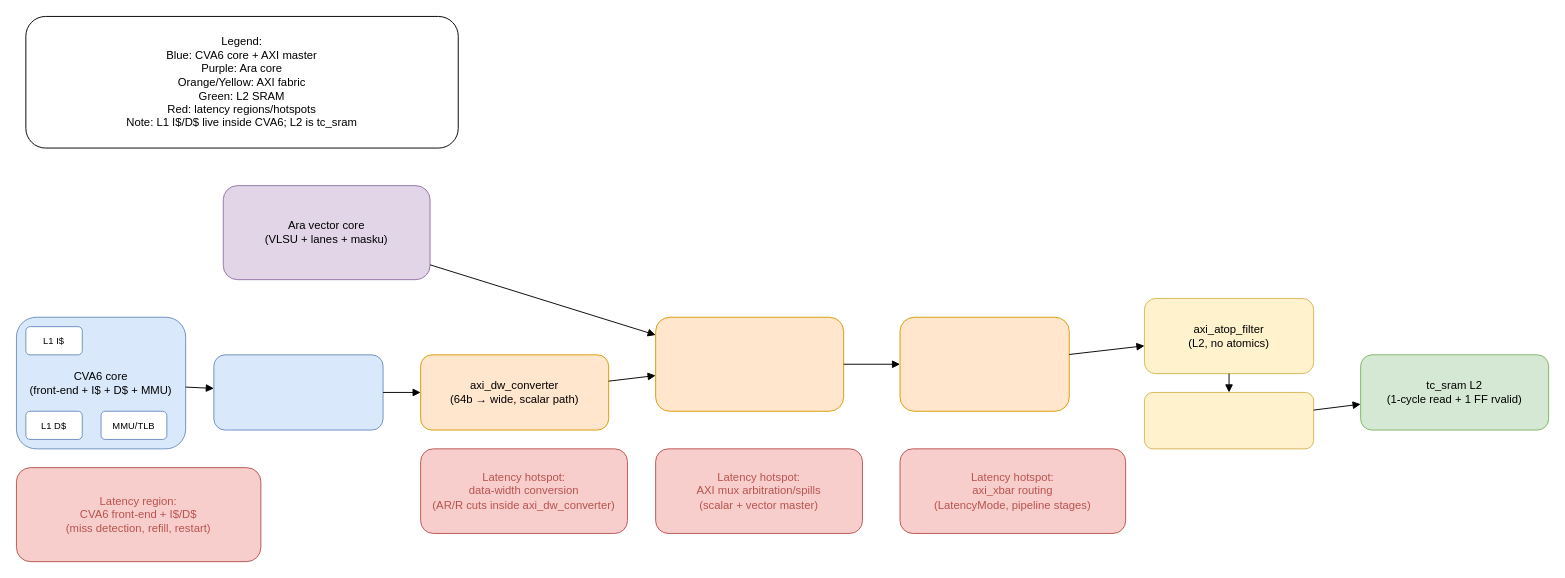
The diagram is 1565 pixels wide and 578 high, and some of its shapes have lost their labels. The centre of each missing label's shape, as x and y in pixels:
"axi_mux (2→1) (CVA6 wide + Ara wide)" goes at point 749,363.
"axi_to_mem" goes at point 1229,420.
"axi_xbar (SoC crossbar)" goes at point 984,363.
"CVA6 AXI master (64b, post-L1 misses)" goes at point 298,392.
